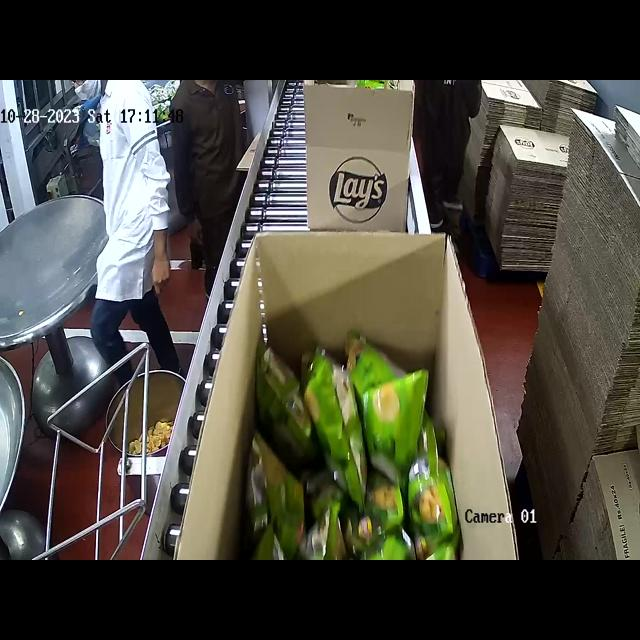yogurt: (245, 329, 461, 558)
